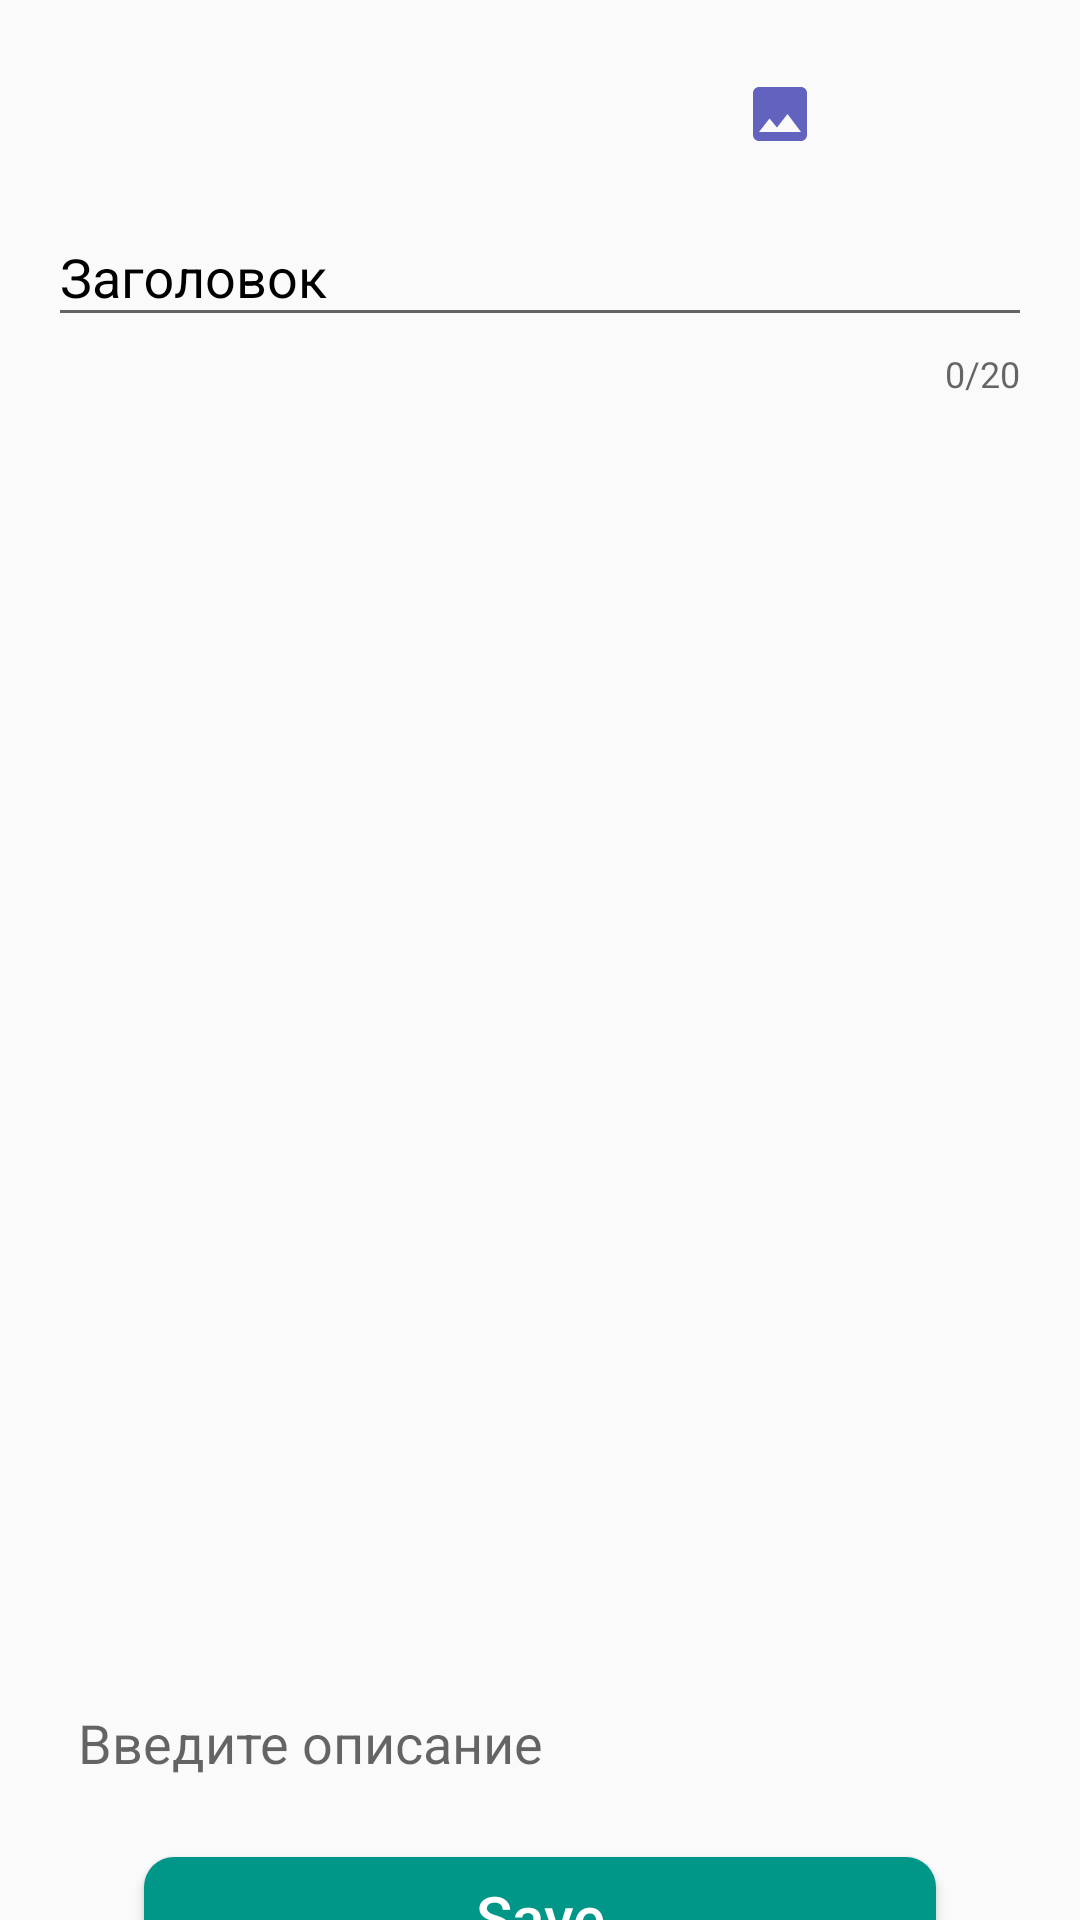

Where icons sit on this 1080px x 1920px app screen, as [left=x1, top=y1, right=x2, bottom=y2]:
insert photo: [left=753, top=87, right=807, bottom=141]
